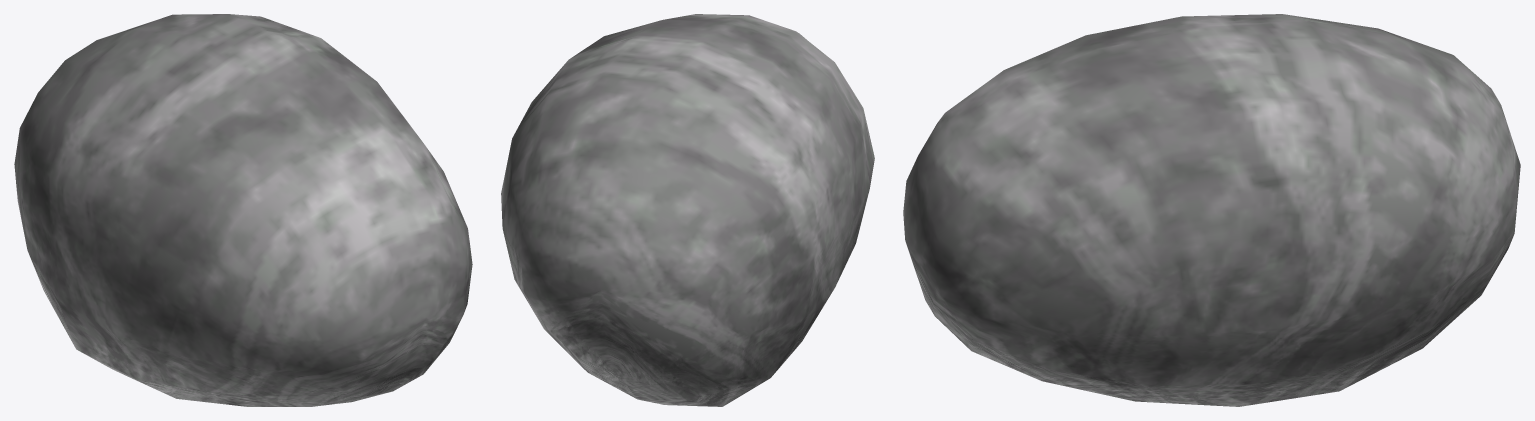
Rendered from Potato_Item.fbx.
3 views of the same model, side by side, from view 1: azimuth 30°, elevation 25°; view 2: azimuth 150°, elevation 25°; view 3: azimuth 270°, elevation 25° (orthographic). The views are drawn at different scales.
Parts seen in each view (by area): view 1: Potato; view 2: Potato; view 3: Potato.
Boxes of the visible parts, x1,y1,x2,y2 form: Potato: (14, 14, 472, 406); Potato: (501, 14, 874, 406); Potato: (903, 14, 1520, 406).
Bounding box in the file's own units: 0.4082 × 0.4146 × 0.6202.
